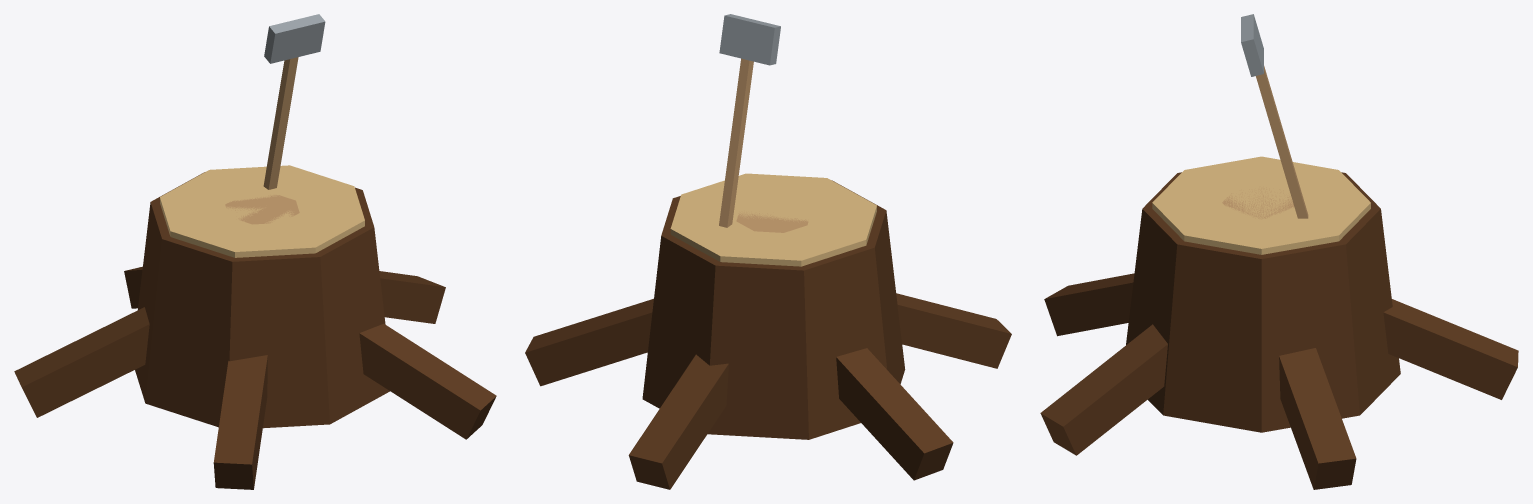
The model's file is Nature_Stump.fbx.
The picture shows the model from 3 angles, left to right: view 1: azimuth 30°, elevation 25°; view 2: azimuth 150°, elevation 25°; view 3: azimuth 270°, elevation 25°; orthographic projection. The views are drawn at different scales.
Parts seen in each view (by area): view 1: Nature_Stump; view 2: Nature_Stump; view 3: Nature_Stump.
Boxes of the visible parts, x1=… form: Nature_Stump: x1=14, y1=14, x2=496, y2=489; Nature_Stump: x1=525, y1=14, x2=1011, y2=489; Nature_Stump: x1=1040, y1=14, x2=1518, y2=489.
Size of the model in its own units: 1.51 by 1.26 by 1.44.
